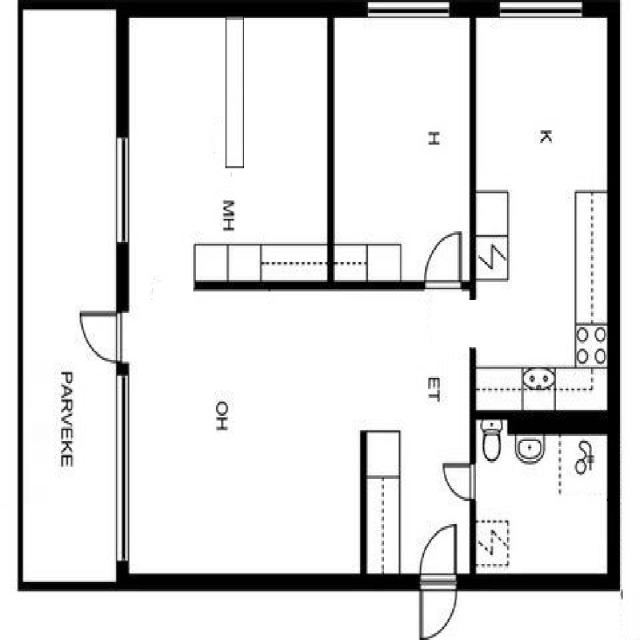door: (414, 518, 461, 640), (419, 226, 468, 290), (77, 304, 126, 368), (436, 458, 482, 504)
window: (472, 420, 614, 578), (110, 128, 134, 249), (490, 1, 589, 29), (359, 1, 458, 28)
zone: (121, 287, 476, 591), (476, 6, 602, 398), (115, 9, 268, 292), (331, 10, 474, 284), (225, 8, 330, 282), (471, 419, 613, 578)
